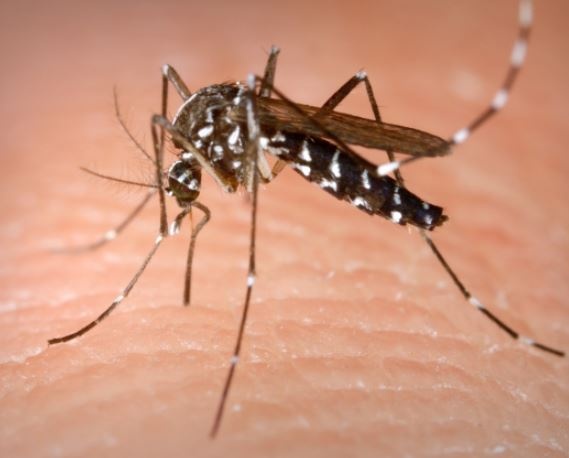dengue_mosquito: (80, 47, 472, 307)
